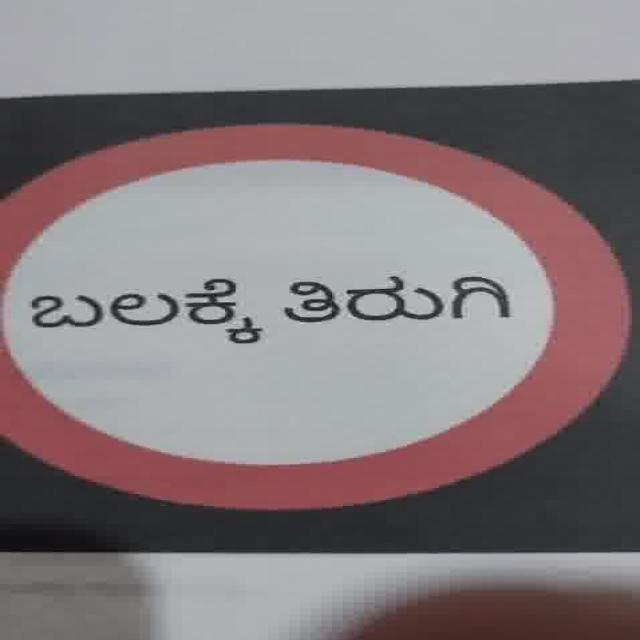kannadaright: (1, 119, 632, 511), (27, 272, 515, 344), (27, 276, 262, 344), (280, 273, 513, 323)
